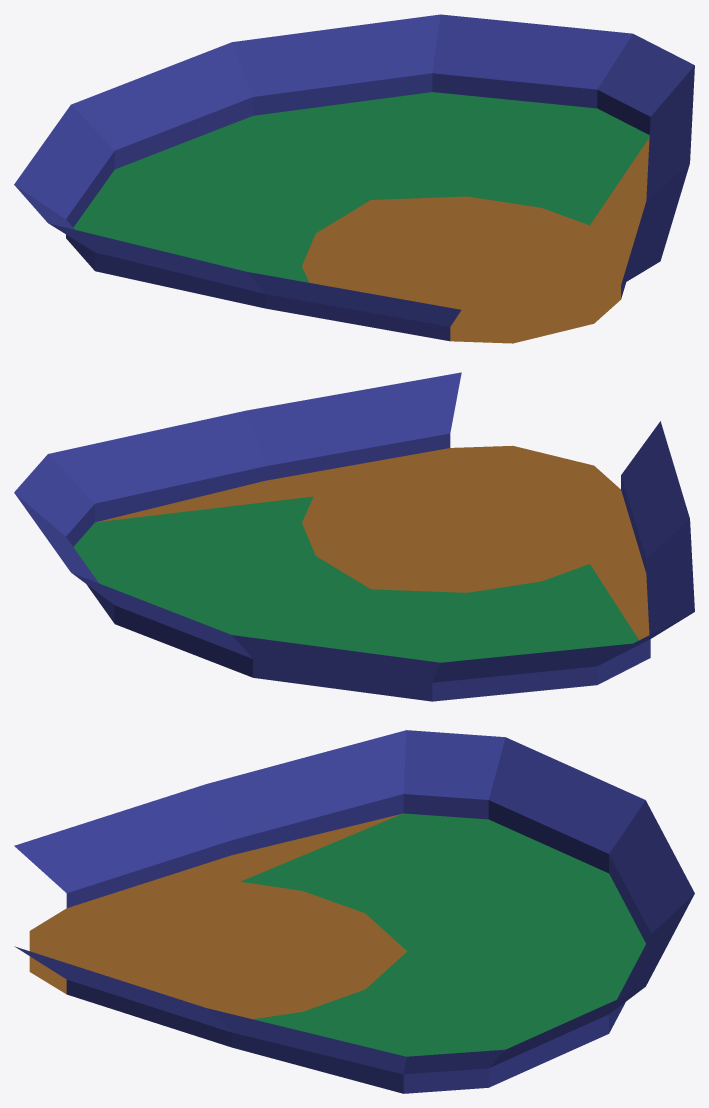
The model's file is baseball-stadium.glb.
3 views of the same model, one above another, from view 1: azimuth 30°, elevation 25°; view 2: azimuth 150°, elevation 25°; view 3: azimuth 270°, elevation 25° (orthographic). The views are drawn at different scales.
Parts seen in each view (by area): view 1: Stadium; view 2: Stadium; view 3: Stadium.
Boxes of the visible parts, bbox=[...] form: Stadium: bbox=[14, 14, 694, 343]; Stadium: bbox=[14, 372, 694, 701]; Stadium: bbox=[14, 730, 694, 1093].
Bounding box in the file's own units: 34.46 × 2.96 × 30.37.
